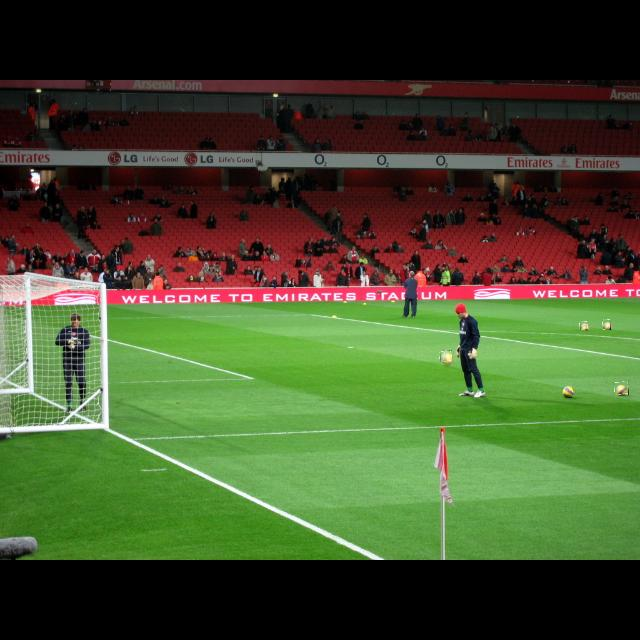Football: (615, 381, 629, 395), (440, 350, 452, 362), (562, 384, 572, 398), (603, 320, 611, 330), (580, 322, 588, 330)
